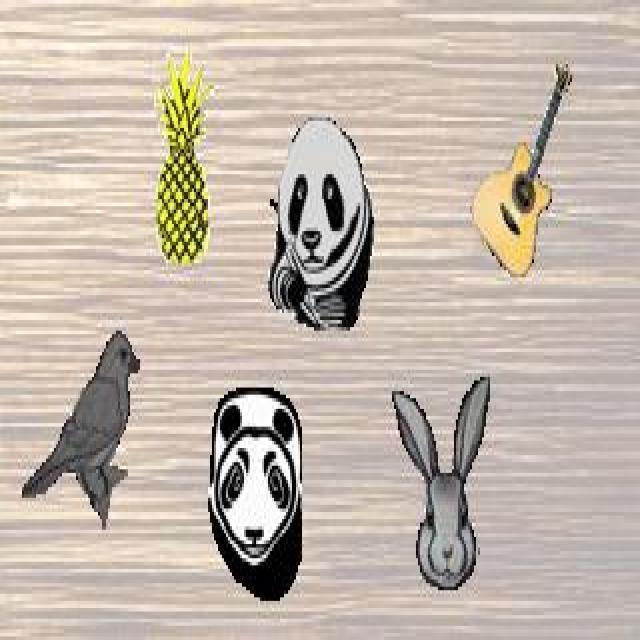Other Objects: (19, 328, 140, 529)
